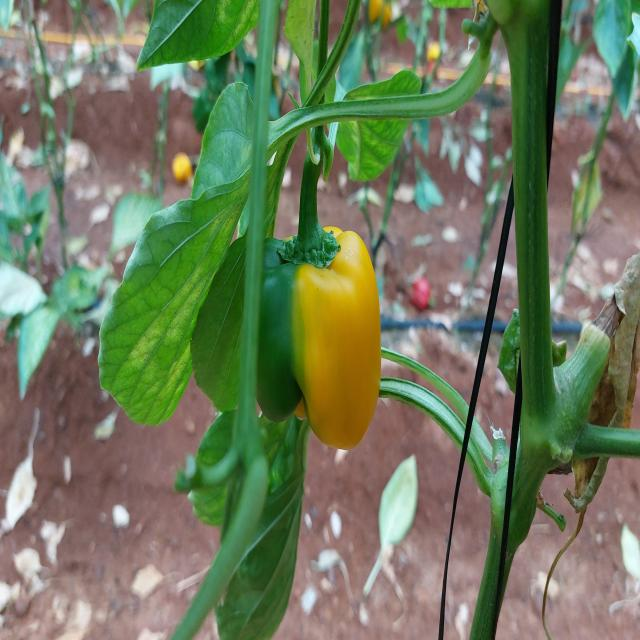GreenishYellow--Can-be-Harvested: (244, 204, 392, 450)
